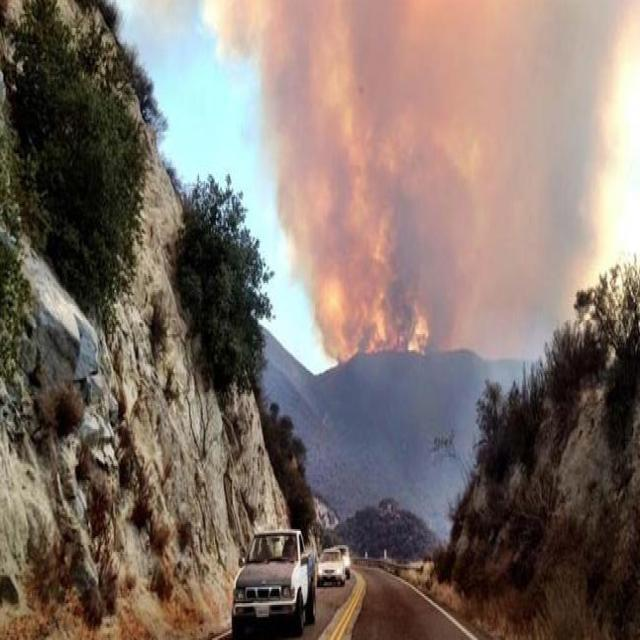Smoke: (210, 0, 639, 381)
